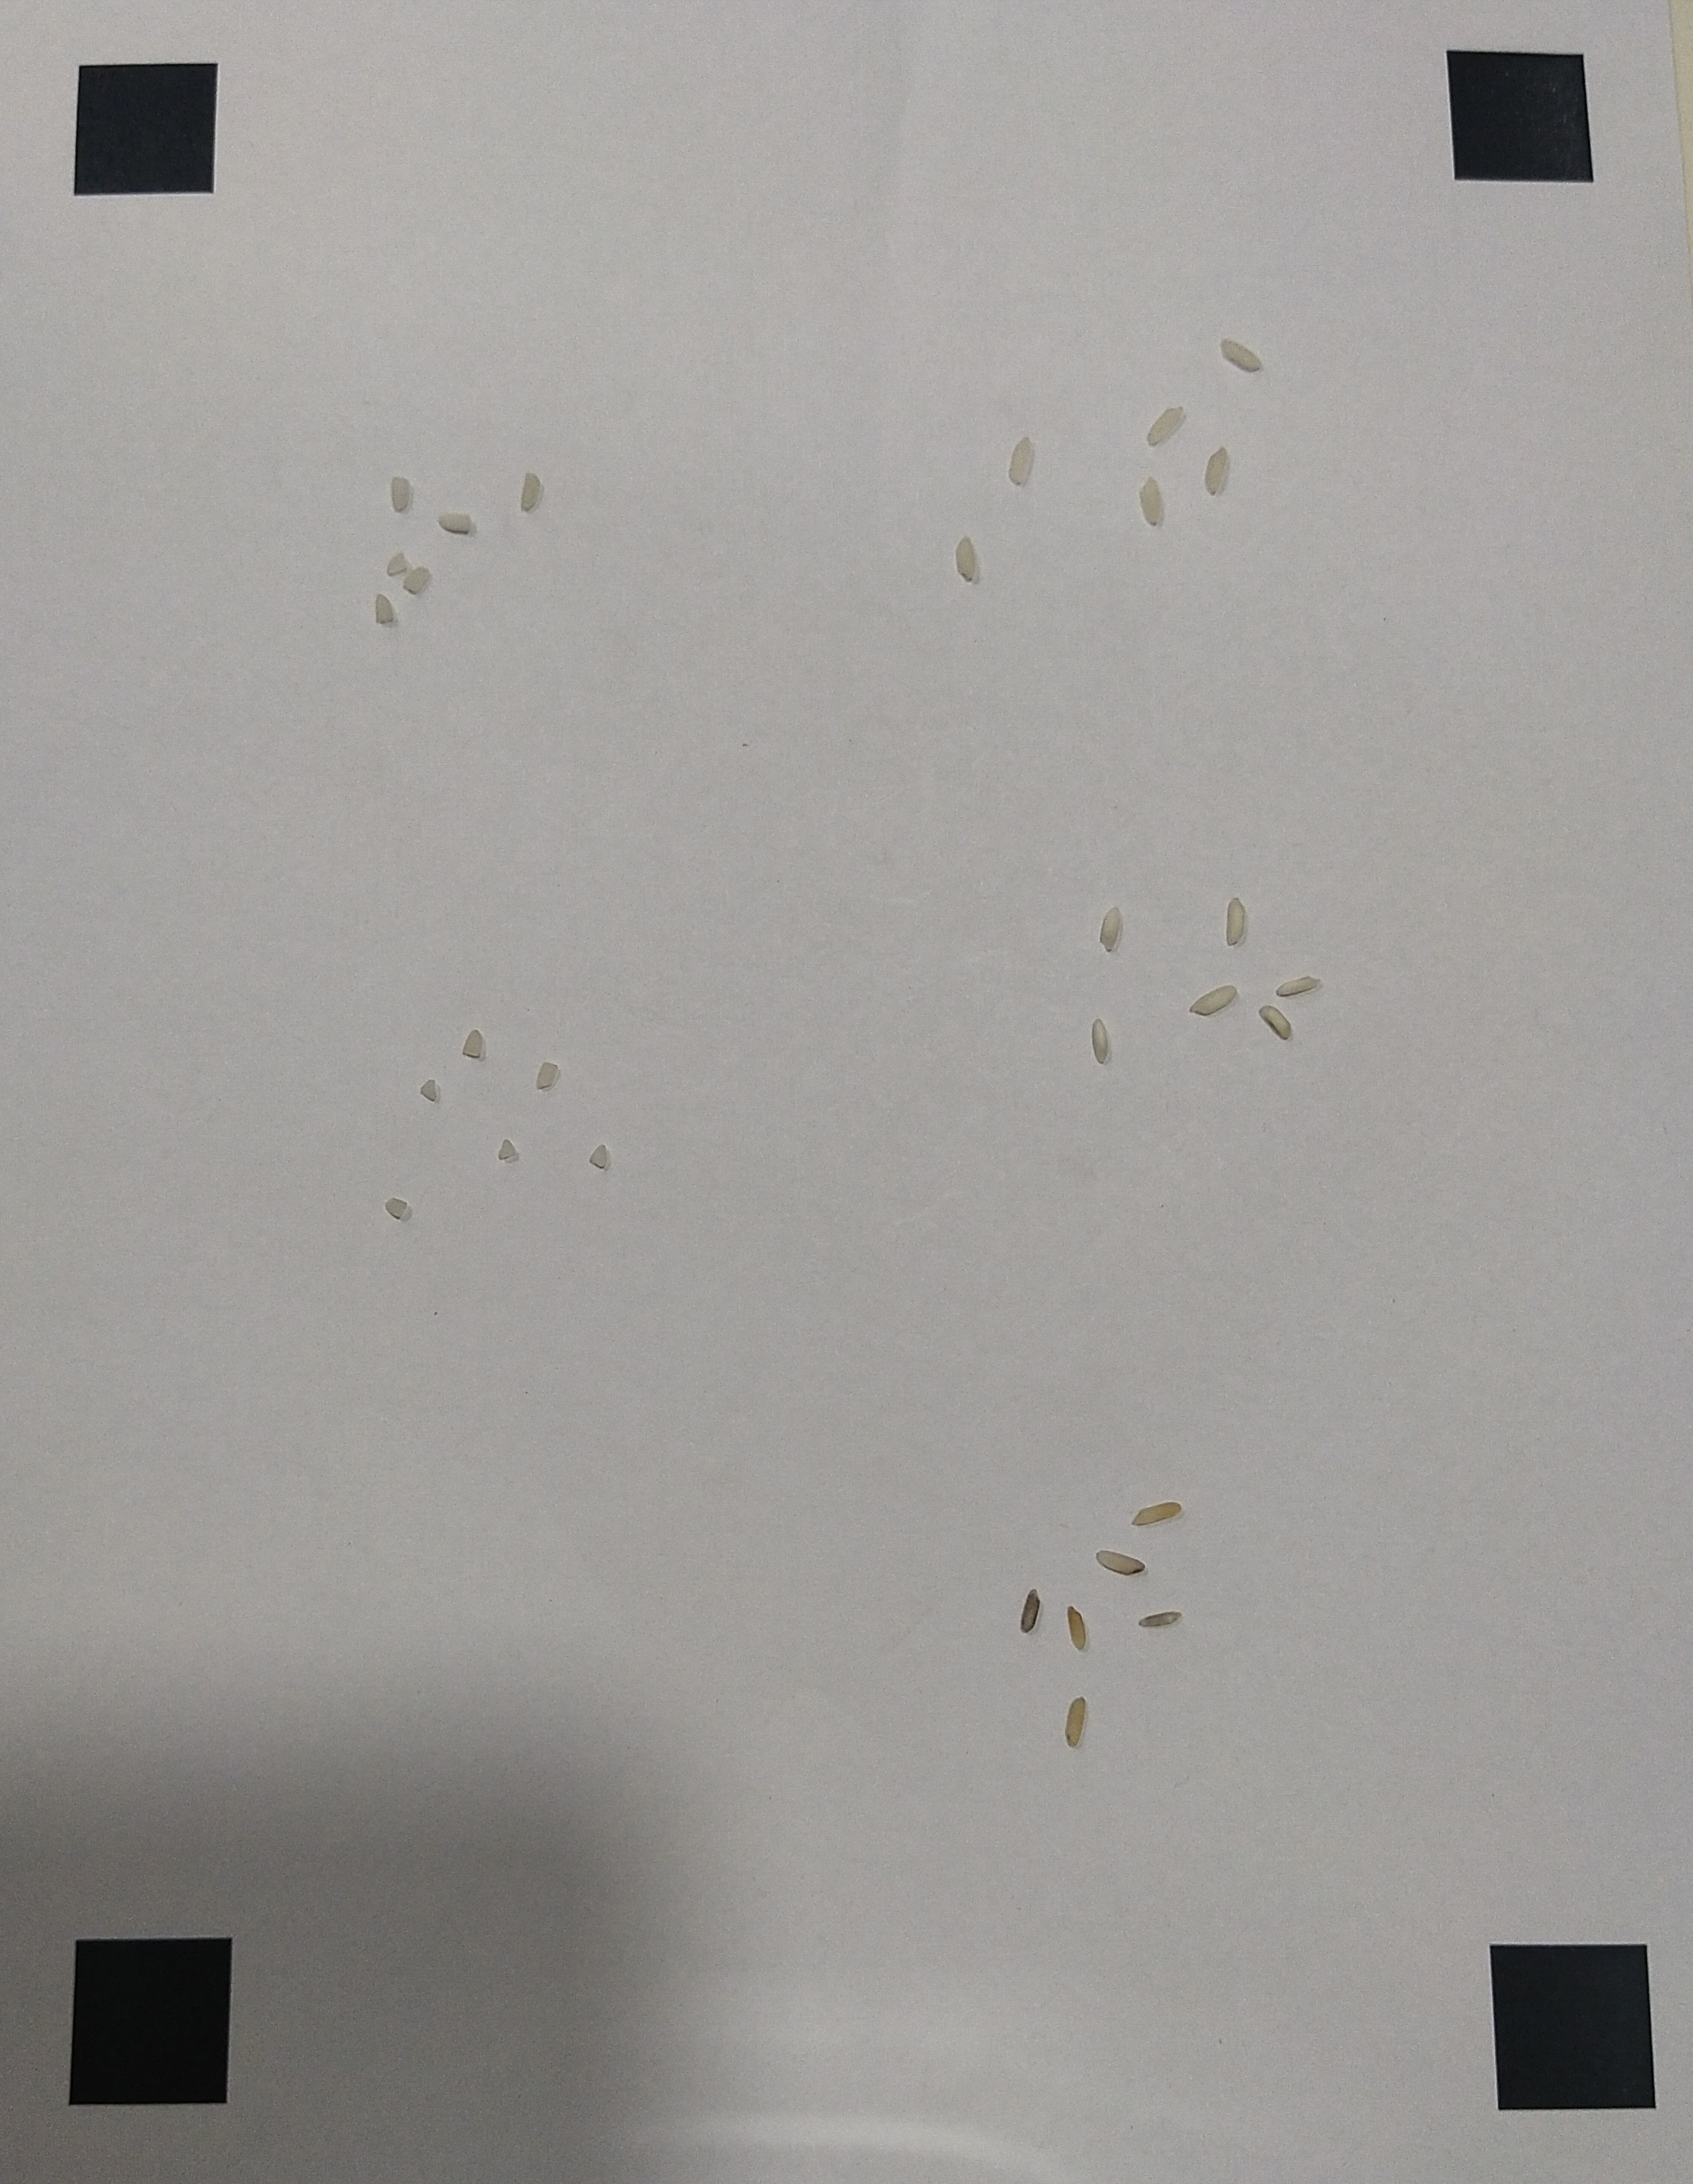broken: (534, 1058, 558, 1092), (440, 509, 472, 534), (461, 1028, 486, 1060), (404, 565, 431, 594), (385, 1197, 410, 1220), (376, 594, 394, 626), (418, 1078, 440, 1101), (498, 1136, 516, 1163), (385, 551, 406, 573), (590, 1143, 608, 1166)
chalky: (1188, 984, 1237, 1016), (1259, 1005, 1294, 1042), (1099, 904, 1120, 954), (1275, 975, 1322, 996), (1225, 897, 1244, 947), (1092, 1018, 1106, 1067)
damage: (521, 472, 542, 514), (392, 473, 410, 512)
discolor: (1097, 1549, 1147, 1578), (1129, 1501, 1184, 1526), (1064, 1695, 1085, 1748), (1019, 1588, 1041, 1634), (1067, 1604, 1088, 1650), (1135, 1611, 1184, 1627)
good: (1220, 335, 1266, 372), (1147, 404, 1182, 445), (1138, 475, 1163, 526), (1009, 434, 1032, 487), (1205, 443, 1227, 500), (954, 532, 977, 583)
